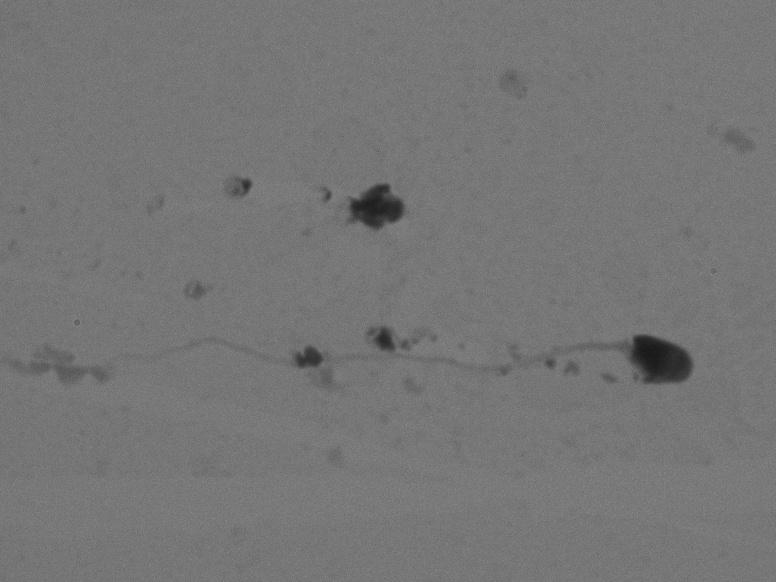Abnormal: (75, 278, 715, 448)
